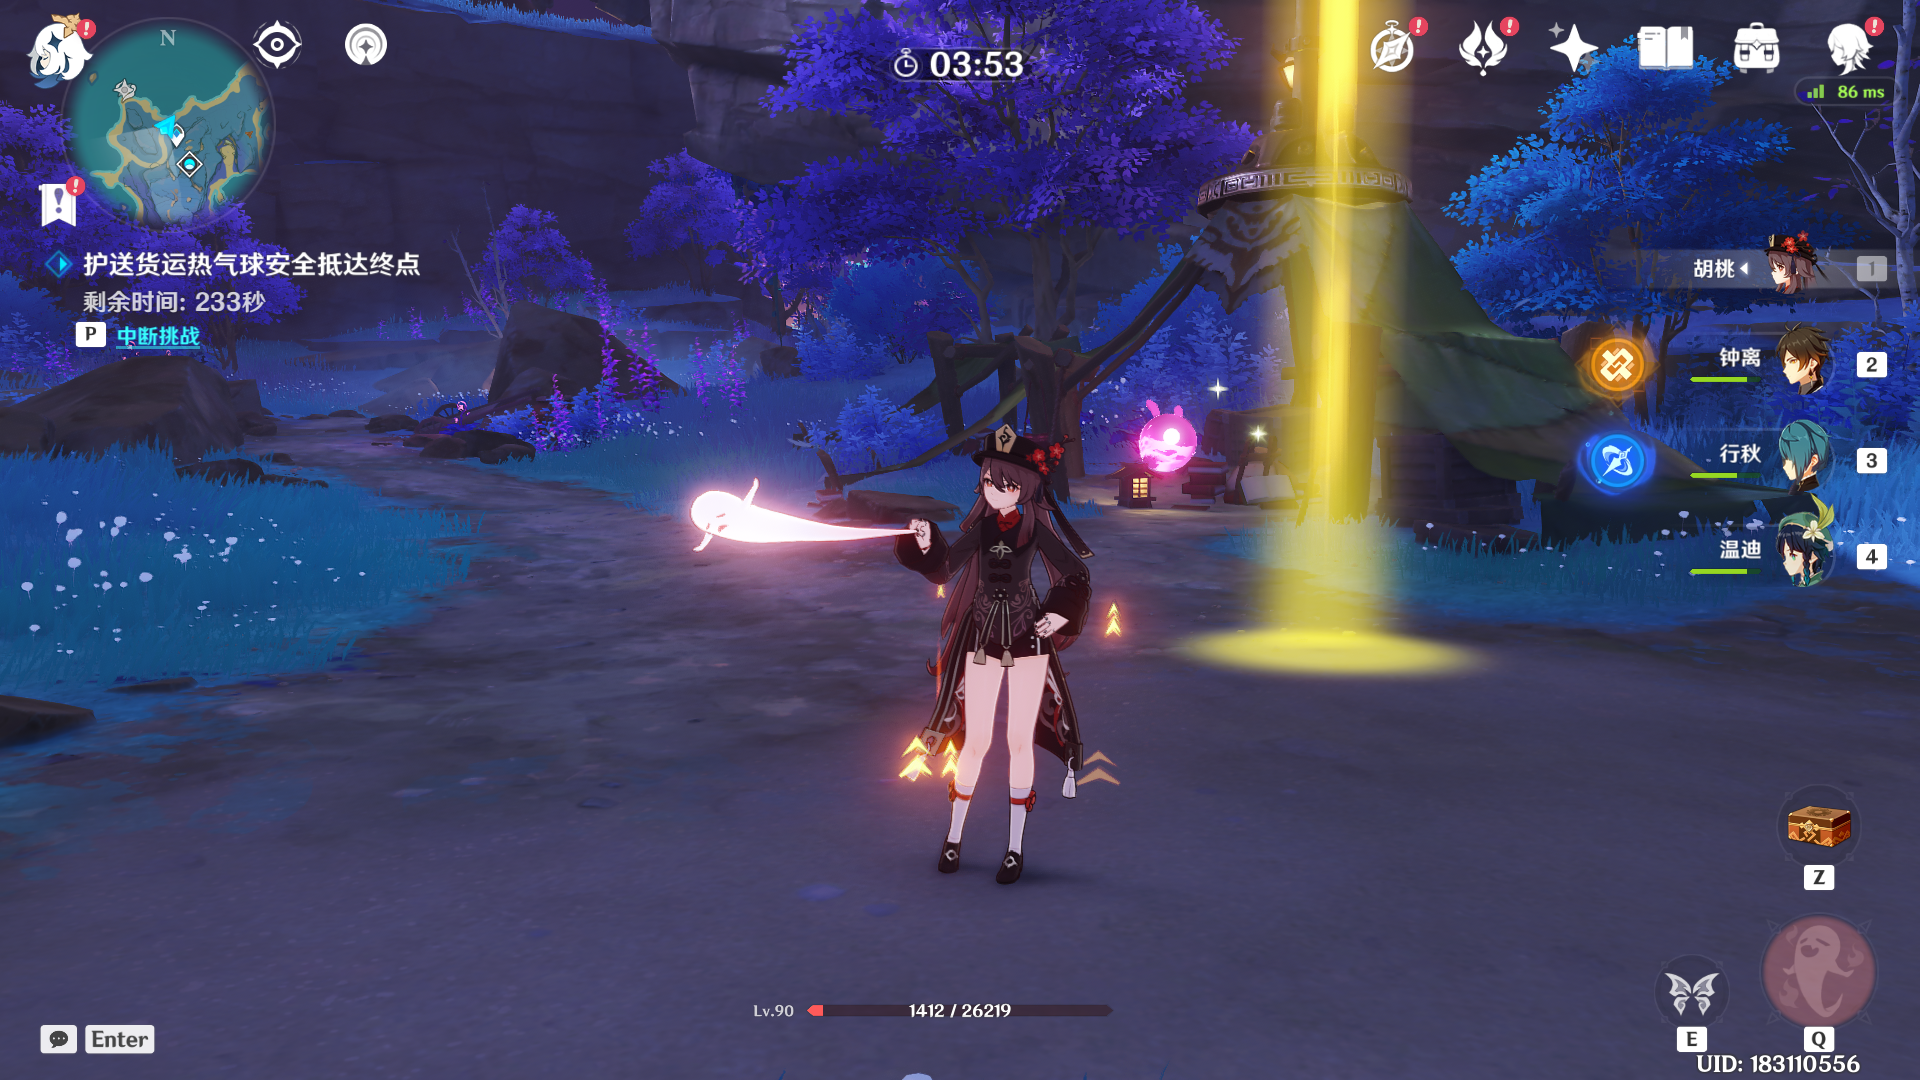character: (861, 413, 1166, 923)
